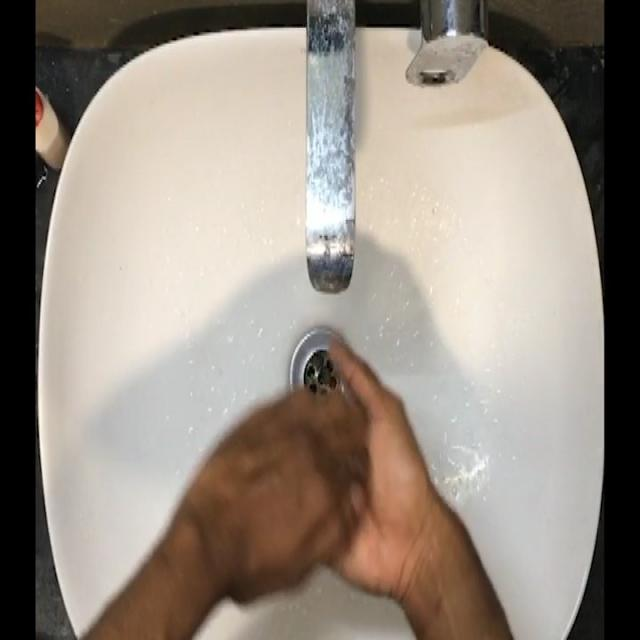step_4: (182, 333, 416, 577)
